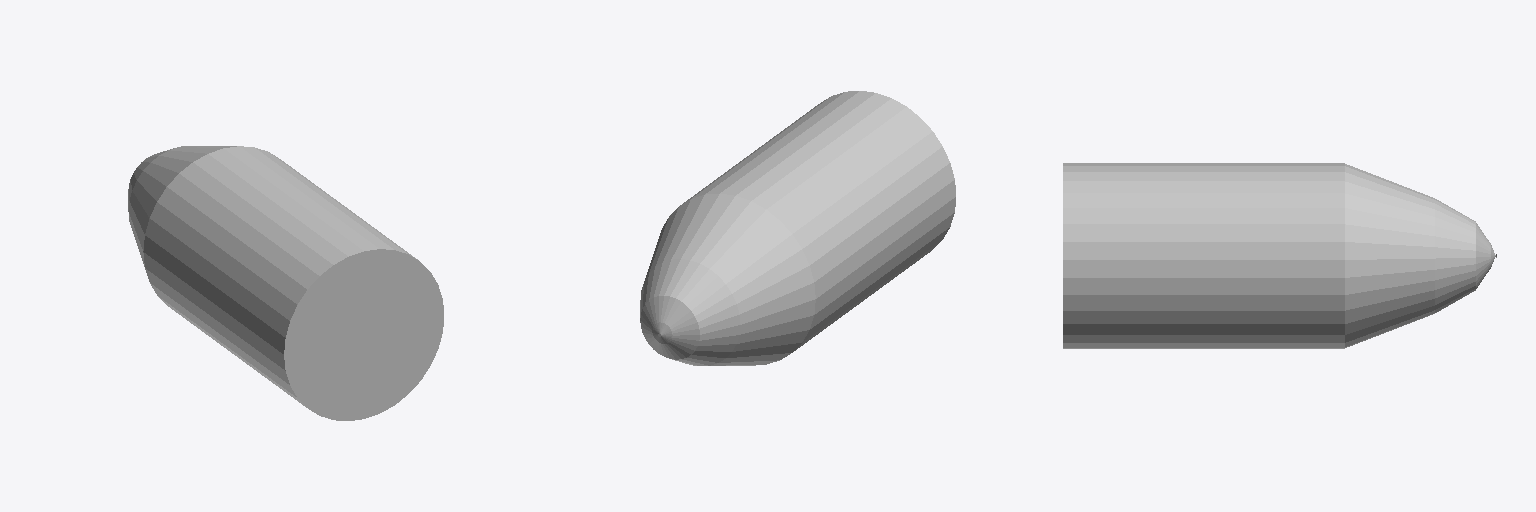
Rendered from simplebullet.obj.
The picture shows the model from 3 angles: view 1: azimuth 30°, elevation 25°; view 2: azimuth 150°, elevation 25°; view 3: azimuth 270°, elevation 25°; orthographic projection.
Parts seen in each view (by area): view 1: Cylinder; view 2: Cylinder; view 3: Cylinder.
Boxes of the visible parts, x1,y1,x2,y2 form: Cylinder: [128, 146, 443, 420]; Cylinder: [640, 91, 955, 365]; Cylinder: [1063, 163, 1496, 348].
Size of the model in its own units: 2 by 2 by 4.67.